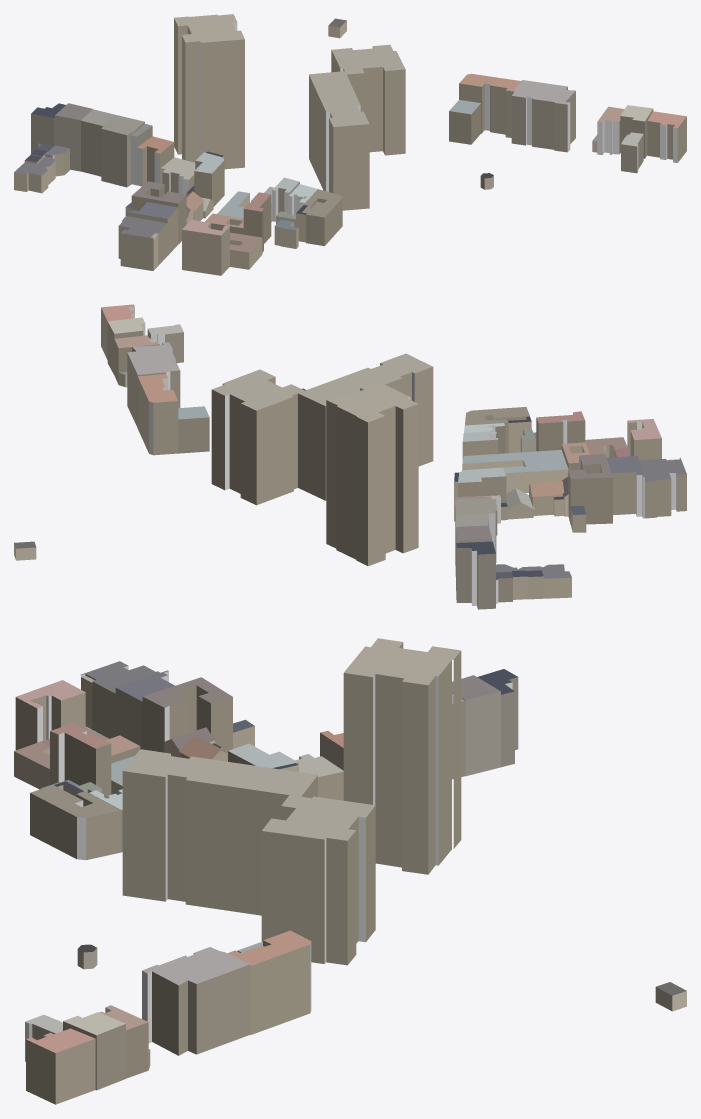
3 views of the same model, one above another, from view 1: azimuth 30°, elevation 25°; view 2: azimuth 150°, elevation 25°; view 3: azimuth 270°, elevation 25° (orthographic). The views are drawn at different scales.
Parts seen in each view (by area): view 1: tuile; view 2: tuile; view 3: tuile.
Boxes of the visible parts, left/top/right/bottom form: tuile: left=14, top=14, right=686, bottom=275; tuile: left=14, top=304, right=686, bottom=609; tuile: left=14, top=638, right=686, bottom=1104.
Bounding box in the file's own units: 249 × 55.89 × 180.
